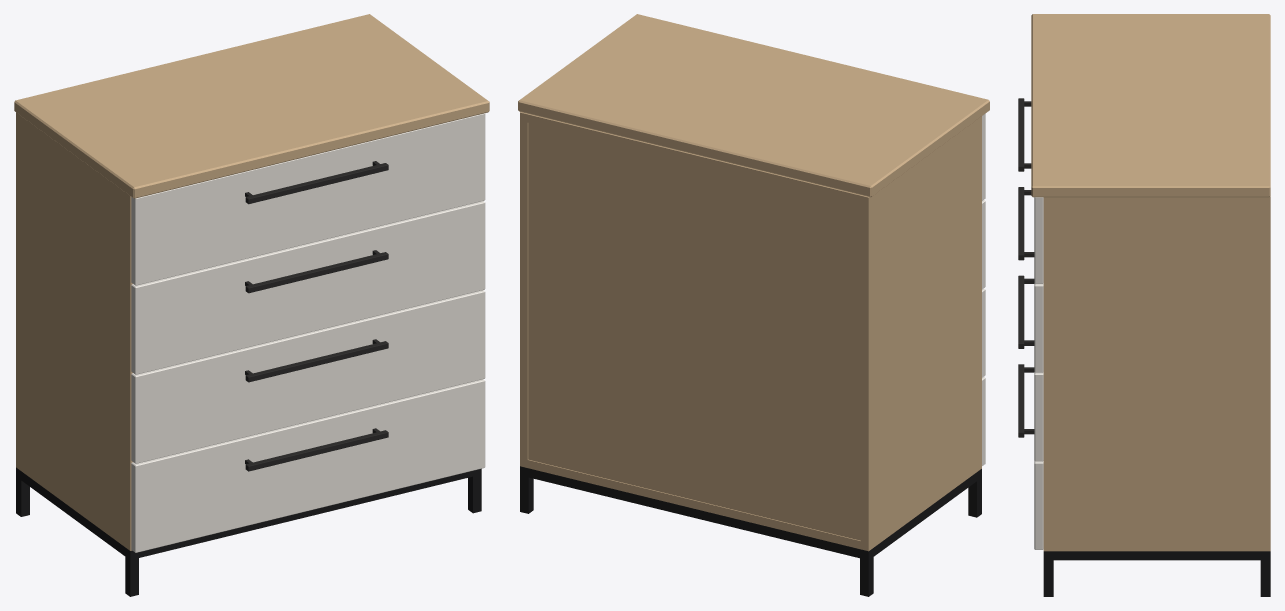
File: 09_komoda_80_4sz.glb
3 renders of one model, left to right at view 1: azimuth 30°, elevation 25°; view 2: azimuth 150°, elevation 25°; view 3: azimuth 270°, elevation 25°, orthographic.
Visible parts, largest first — view 1: Wierzch, Korpus, Front_szuflada_2, Front_szuflada_4, Front_szuflada_3, Front_szuflada_1, Uchwyty, Rama; view 2: Korpus, Wierzch, Rama; view 3: Korpus, Wierzch, Rama, Uchwyty, Front_szuflada_3, Front_szuflada_2, Front_szuflada_4, Front_szuflada_1.
Boxes of the visible parts, box(x1,y1,x2,y2) form: Wierzch: box(14, 14, 489, 198); Korpus: box(16, 112, 132, 550); Front_szuflada_2: box(131, 201, 485, 374); Front_szuflada_4: box(131, 379, 485, 552); Front_szuflada_3: box(131, 290, 485, 463); Front_szuflada_1: box(131, 113, 485, 285); Uchwyty: box(245, 161, 388, 471); Rama: box(16, 467, 481, 596); Korpus: box(520, 112, 981, 551); Wierzch: box(518, 14, 989, 197); Rama: box(520, 466, 981, 596); Korpus: box(1043, 196, 1270, 551); Wierzch: box(1031, 14, 1270, 197); Rama: box(1043, 551, 1270, 596); Uchwyty: box(1018, 98, 1034, 437); Front_szuflada_3: box(1034, 372, 1043, 461); Front_szuflada_2: box(1034, 283, 1043, 372); Front_szuflada_4: box(1034, 461, 1043, 549); Front_szuflada_1: box(1034, 197, 1043, 283).
Bounding box in the file's own units: 0.812 × 0.9 × 0.5.
